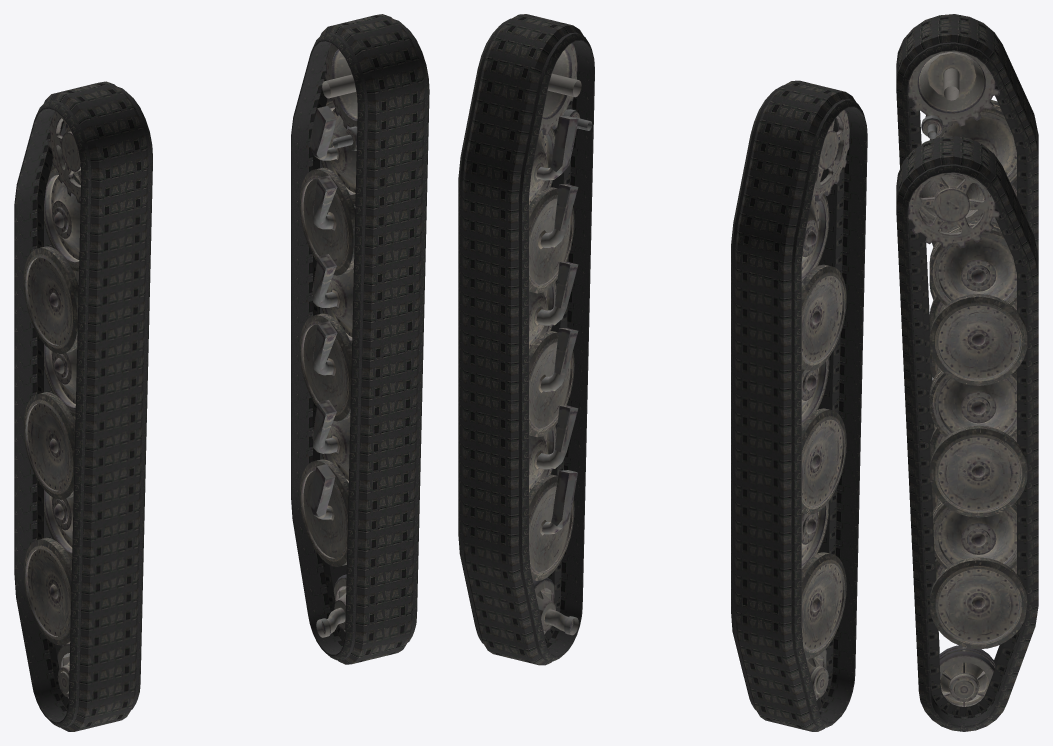
The model's file is Chassis.glb.
The picture shows the model from 3 angles, left to right: view 1: azimuth 30°, elevation 25°; view 2: azimuth 150°, elevation 25°; view 3: azimuth 270°, elevation 25°; orthographic projection. The views are drawn at different scales.
Visible parts, largest first — view 1: set_1_group_0, set_0_group_0, set_3_group_0, set_2_group_0; view 2: set_1_group_0, set_0_group_0, set_3_group_0, set_2_group_0; view 3: set_3_group_0, set_0_group_0, set_1_group_0, set_2_group_0.
Boxes of the visible parts, bbox=[...] form: set_1_group_0: bbox=[14, 81, 152, 731]; set_0_group_0: bbox=[291, 14, 429, 664]; set_3_group_0: bbox=[299, 43, 357, 637]; set_2_group_0: bbox=[23, 111, 81, 698]; set_1_group_0: bbox=[731, 80, 867, 731]; set_0_group_0: bbox=[458, 14, 594, 665]; set_3_group_0: bbox=[529, 43, 592, 635]; set_2_group_0: bbox=[801, 110, 849, 700]; set_3_group_0: bbox=[908, 172, 1027, 706]; set_0_group_0: bbox=[896, 136, 1038, 731]; set_1_group_0: bbox=[896, 14, 1038, 559]; set_2_group_0: bbox=[908, 50, 1026, 509].
Size of the model in its own units: 3.24 by 5.68 by 1.28.
Materials: 4 (4 with a texture image).
